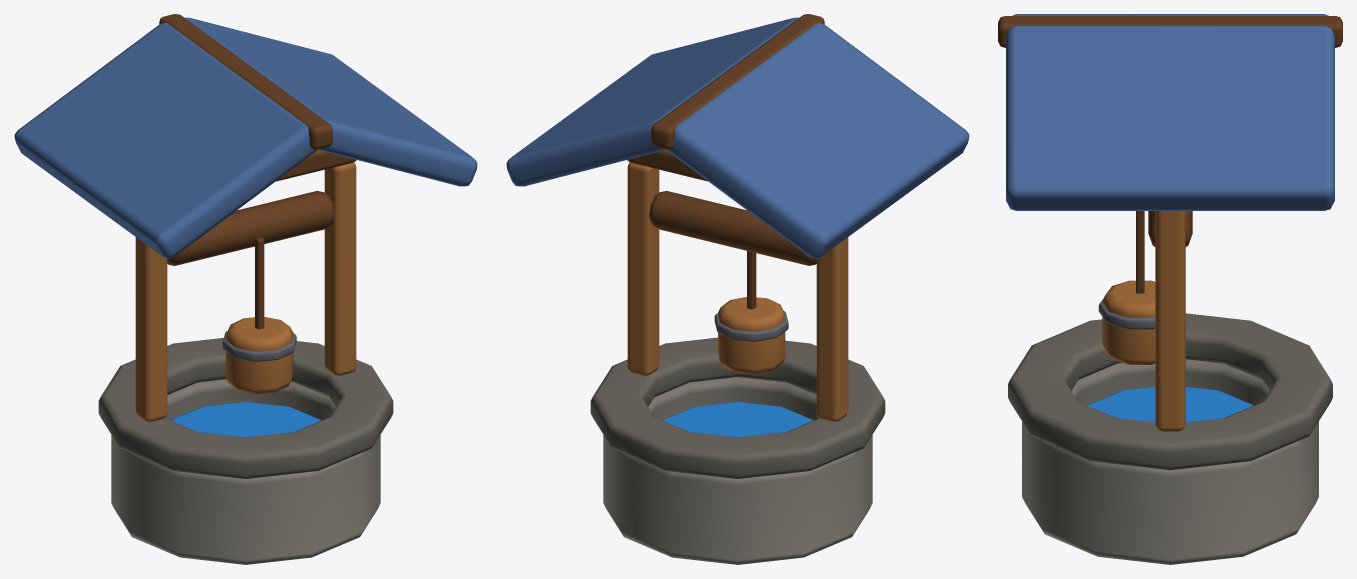
Rendered from Buildings__well.glb.
3 renders of one model, left to right at view 1: azimuth 30°, elevation 25°; view 2: azimuth 150°, elevation 25°; view 3: azimuth 270°, elevation 25°, orthographic. The views are drawn at different scales.
Visible parts, largest first — view 1: well_mesh; view 2: well_mesh; view 3: well_mesh.
Part boxes in pixels (left/top/right/bottom): well_mesh: left=14, top=14, right=477, bottom=564; well_mesh: left=506, top=14, right=969, bottom=564; well_mesh: left=998, top=14, right=1342, bottom=564.
Size of the model in its own units: 1.02 by 1.34 by 0.86.
